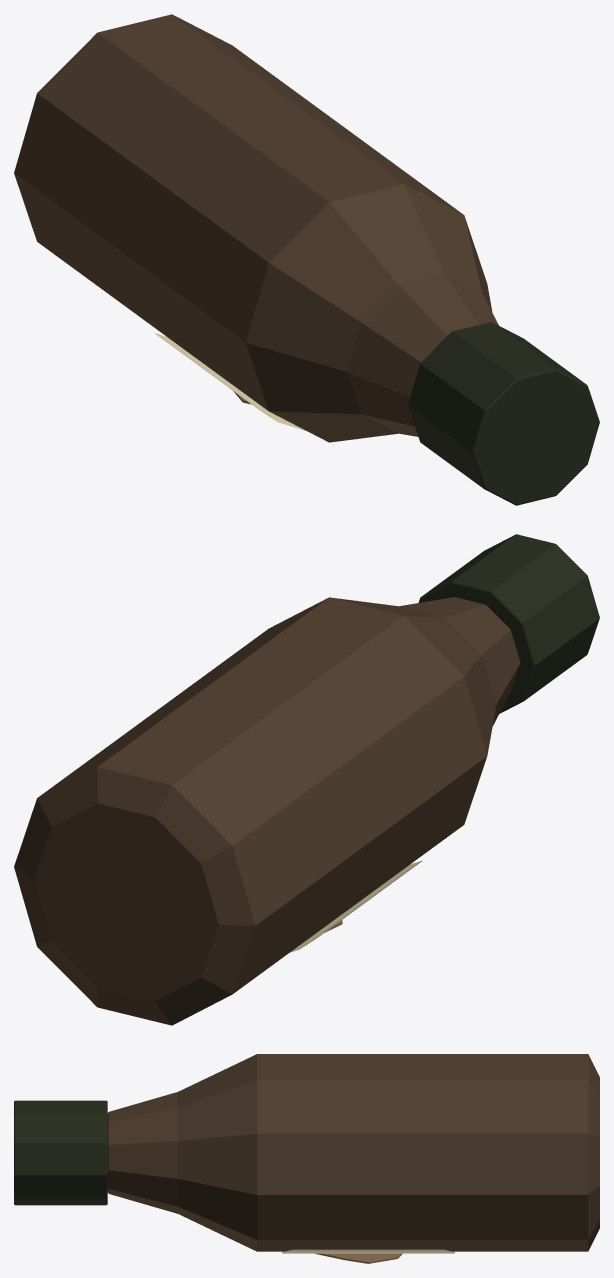
The model's file is bbq_sauce.glb.
3 views of the same model, one above another, from view 1: azimuth 30°, elevation 25°; view 2: azimuth 150°, elevation 25°; view 3: azimuth 270°, elevation 25° (orthographic). The views are drawn at different scales.
Parts seen in each view (by area): view 1: bbq_sauce; view 2: bbq_sauce; view 3: bbq_sauce.
Part boxes in pixels (x1,y1,x2,y2): bbq_sauce: [14, 14, 599, 505]; bbq_sauce: [14, 534, 599, 1025]; bbq_sauce: [14, 1054, 599, 1263].
Size of the model in its own units: 0.068 by 0.0687 by 0.2.
